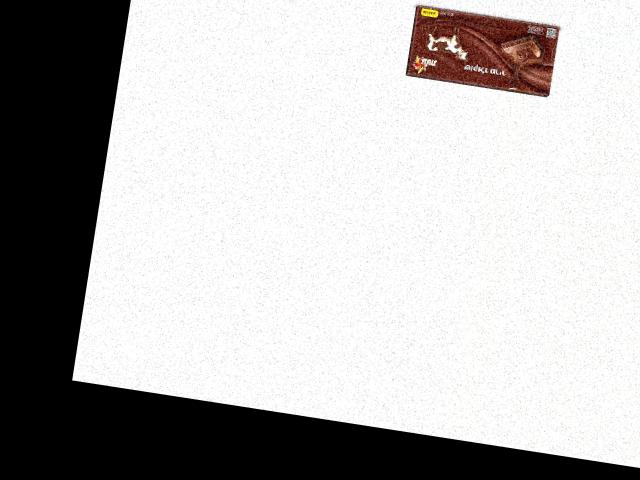chocolate: (401, 3, 558, 98)
